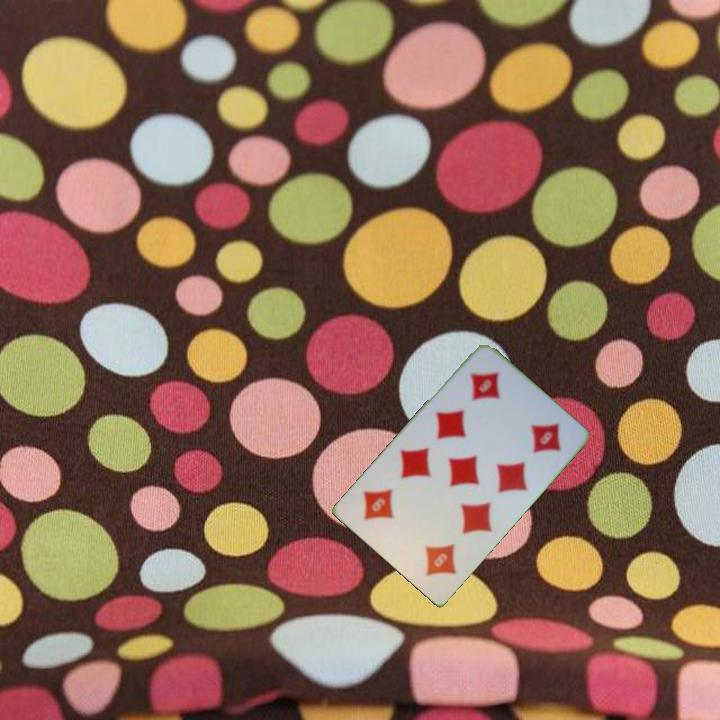d_9.png: (446, 352, 532, 438), (390, 508, 477, 593)
